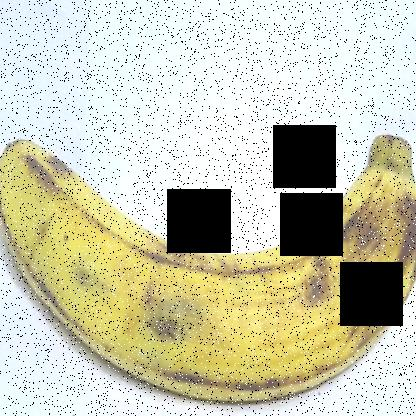overripe: (1, 121, 415, 415)
